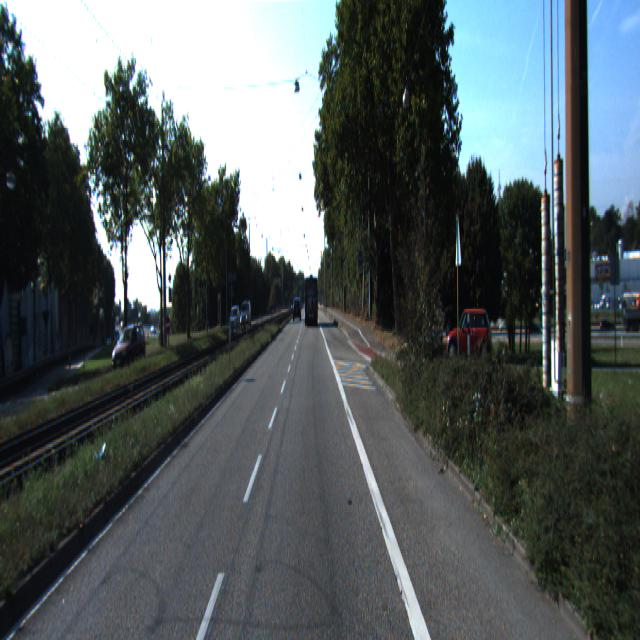Car: (445, 304, 493, 362), (110, 325, 148, 371), (304, 276, 319, 328)
